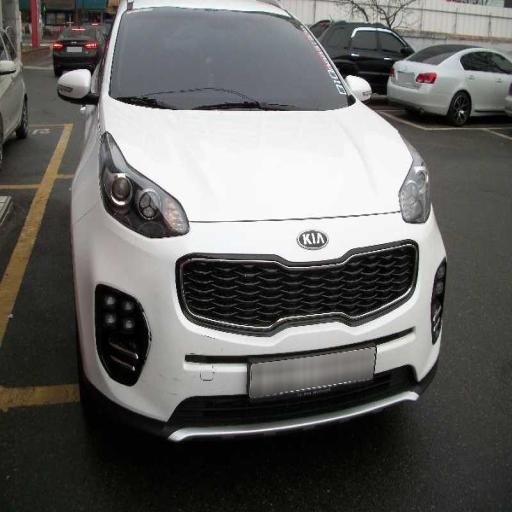dent: (147, 133, 418, 251)
scratch: (147, 338, 233, 412)
